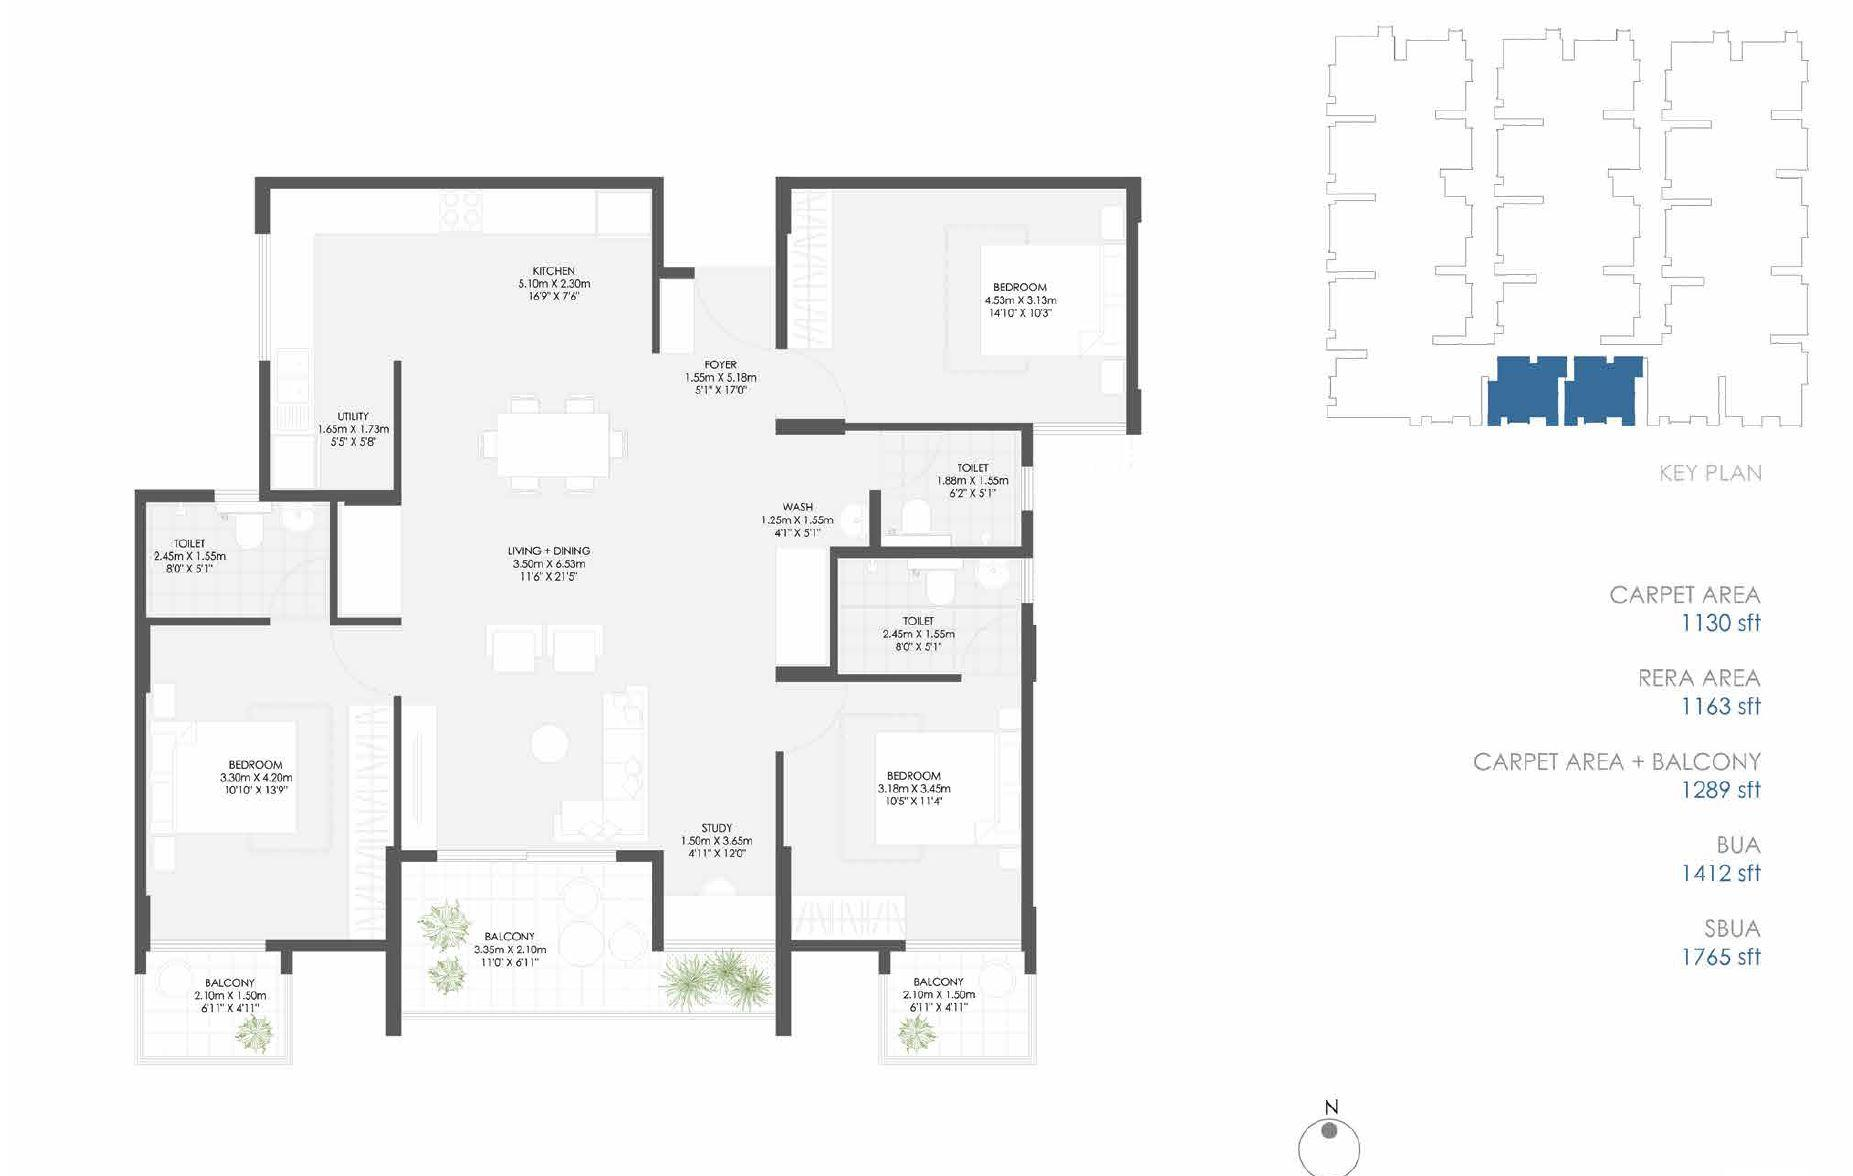Balcony: (400, 861, 658, 1007), (140, 946, 285, 1059), (885, 948, 1026, 1059), (663, 945, 774, 1009)
Bed: (874, 729, 1024, 852), (147, 721, 298, 832), (979, 247, 1126, 354)
Bedroom: (140, 621, 398, 945), (787, 188, 1125, 421), (781, 678, 1018, 941)
Dining Room: (398, 356, 678, 540)
Dining table: (469, 382, 636, 497)
Foyer: (671, 270, 773, 572)
Kitchen: (271, 190, 647, 352)
Living Room: (407, 545, 656, 855)
Sofa: (597, 686, 647, 843), (547, 799, 651, 838), (548, 625, 606, 672), (486, 626, 543, 674)
Wardrobe: (346, 707, 388, 944), (786, 190, 832, 347), (340, 510, 394, 613), (778, 552, 828, 662), (791, 897, 904, 944), (662, 279, 696, 354)
commode: (234, 516, 267, 552), (901, 500, 933, 532), (928, 568, 955, 604)
door: (696, 270, 771, 355), (771, 348, 847, 427), (331, 626, 408, 694), (779, 683, 850, 752), (266, 554, 330, 626), (870, 429, 943, 491), (951, 612, 1020, 675), (434, 844, 620, 867), (153, 933, 266, 957)
fridge: (597, 190, 651, 236)
kitchen-slab: (270, 189, 596, 235), (271, 196, 312, 429)
sink: (278, 356, 313, 429), (277, 506, 317, 533), (835, 502, 866, 536), (981, 562, 1010, 593)
stove: (436, 190, 488, 236)
study: (656, 744, 779, 938)
toilet: (143, 500, 335, 614), (839, 558, 1024, 672), (868, 431, 1024, 547)
tv: (408, 720, 429, 830)
utility: (269, 352, 396, 490)
wash: (771, 437, 870, 552)
washing-machine: (269, 433, 323, 490)
